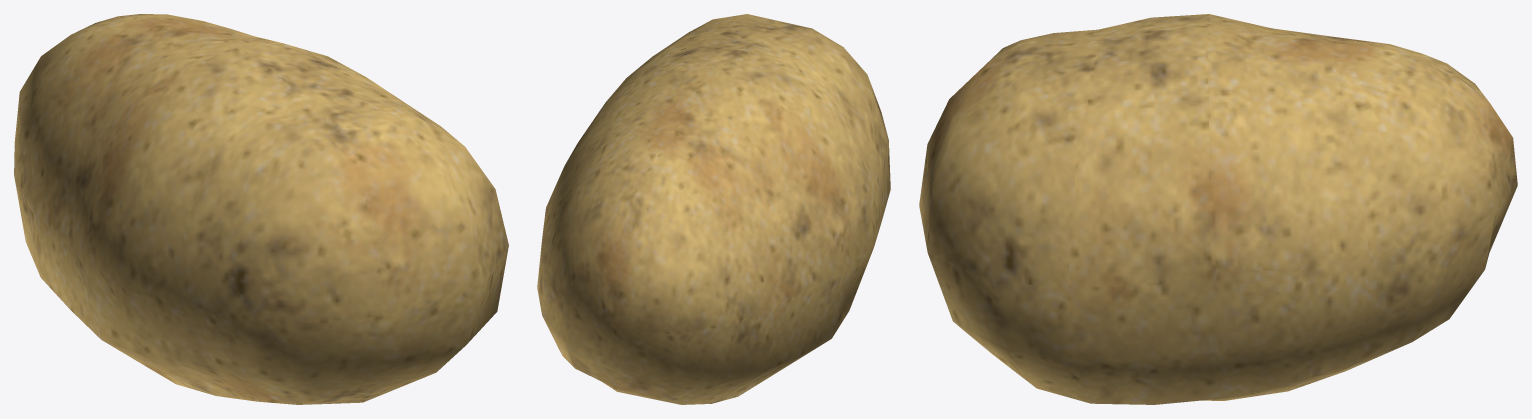
File: Potato_16.obj
3 renders of one model, left to right at view 1: azimuth 30°, elevation 25°; view 2: azimuth 150°, elevation 25°; view 3: azimuth 270°, elevation 25°, orthographic. The views are drawn at different scales.
Parts seen in each view (by area): view 1: potato_b6; view 2: potato_b6; view 3: potato_b6.
Boxes of the visible parts, left/top/right/bottom form: potato_b6: left=14, top=14, right=508, bottom=404; potato_b6: left=537, top=14, right=890, bottom=404; potato_b6: left=919, top=14, right=1517, bottom=404.
Size of the model in its own units: 0.0961 by 0.095 by 0.1479.
